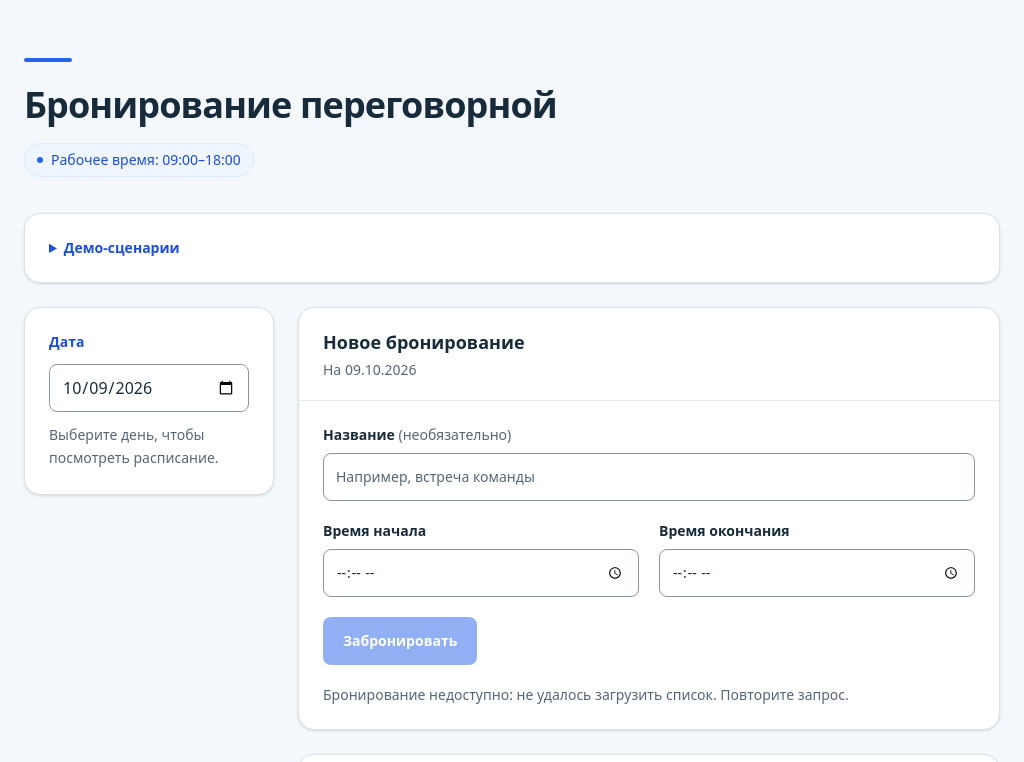
Test case: shows a request error and loads bookings after retry
The image size is (1024, 762).
Expected: the button "Забронировать" is disabled, [323,617,477,665]
Submit the form named "Новое бронирование", box [299,401,999,729]
(page scrolled)
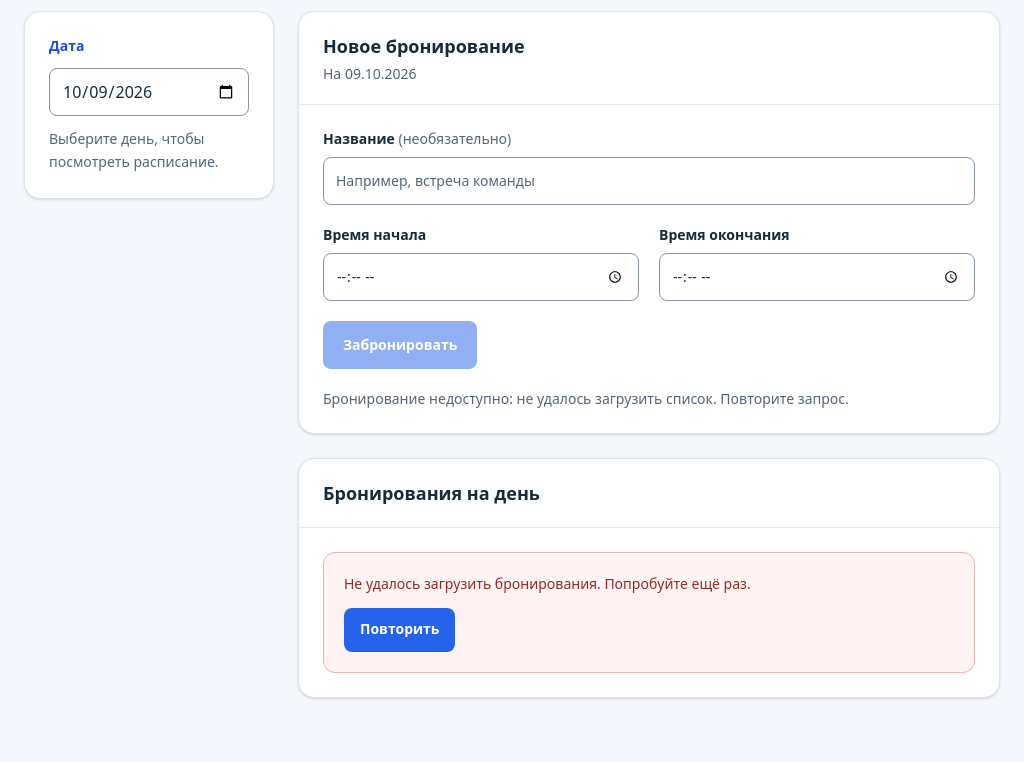
Expected: the number of messages is 1, [323,552,975,673]
Click the button "Повторить".
click(400, 630)  # box [344,608,456,652]
(page scrolled)
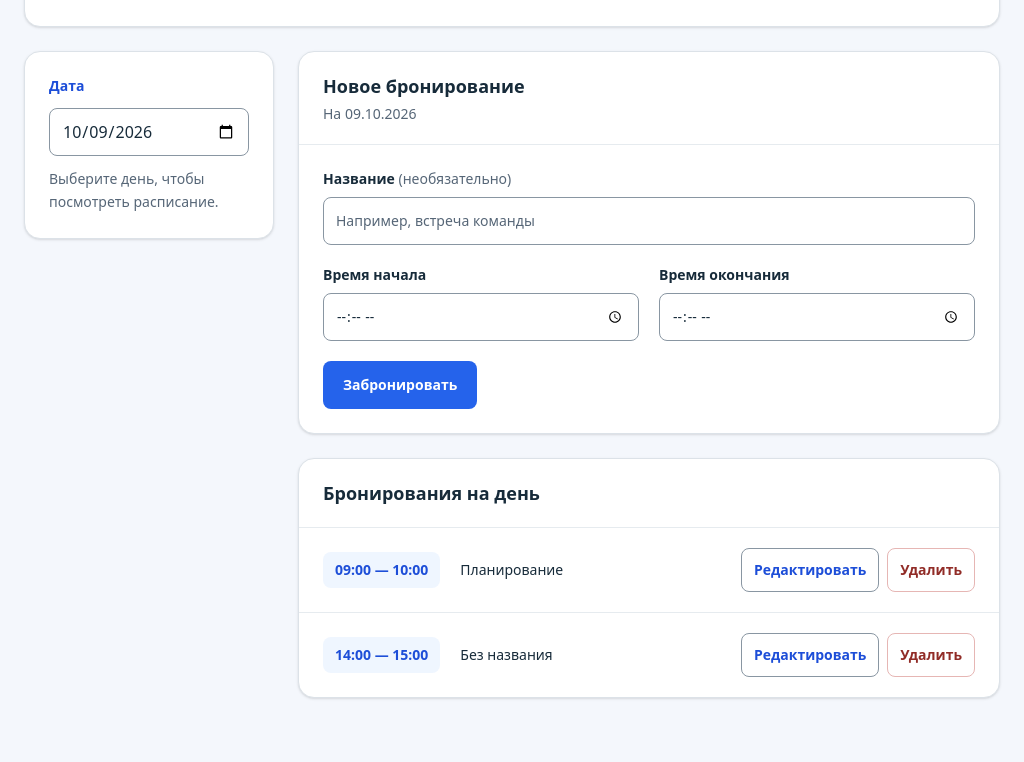
Now the text "Планирование" is shown, box [460,560,563,579]
Now the message "Не удалось загрузить бронирования. Попробуйте ещё раз. Повторить" is gone
Now the button "Забронировать" is enabled, box [323,361,477,409]
